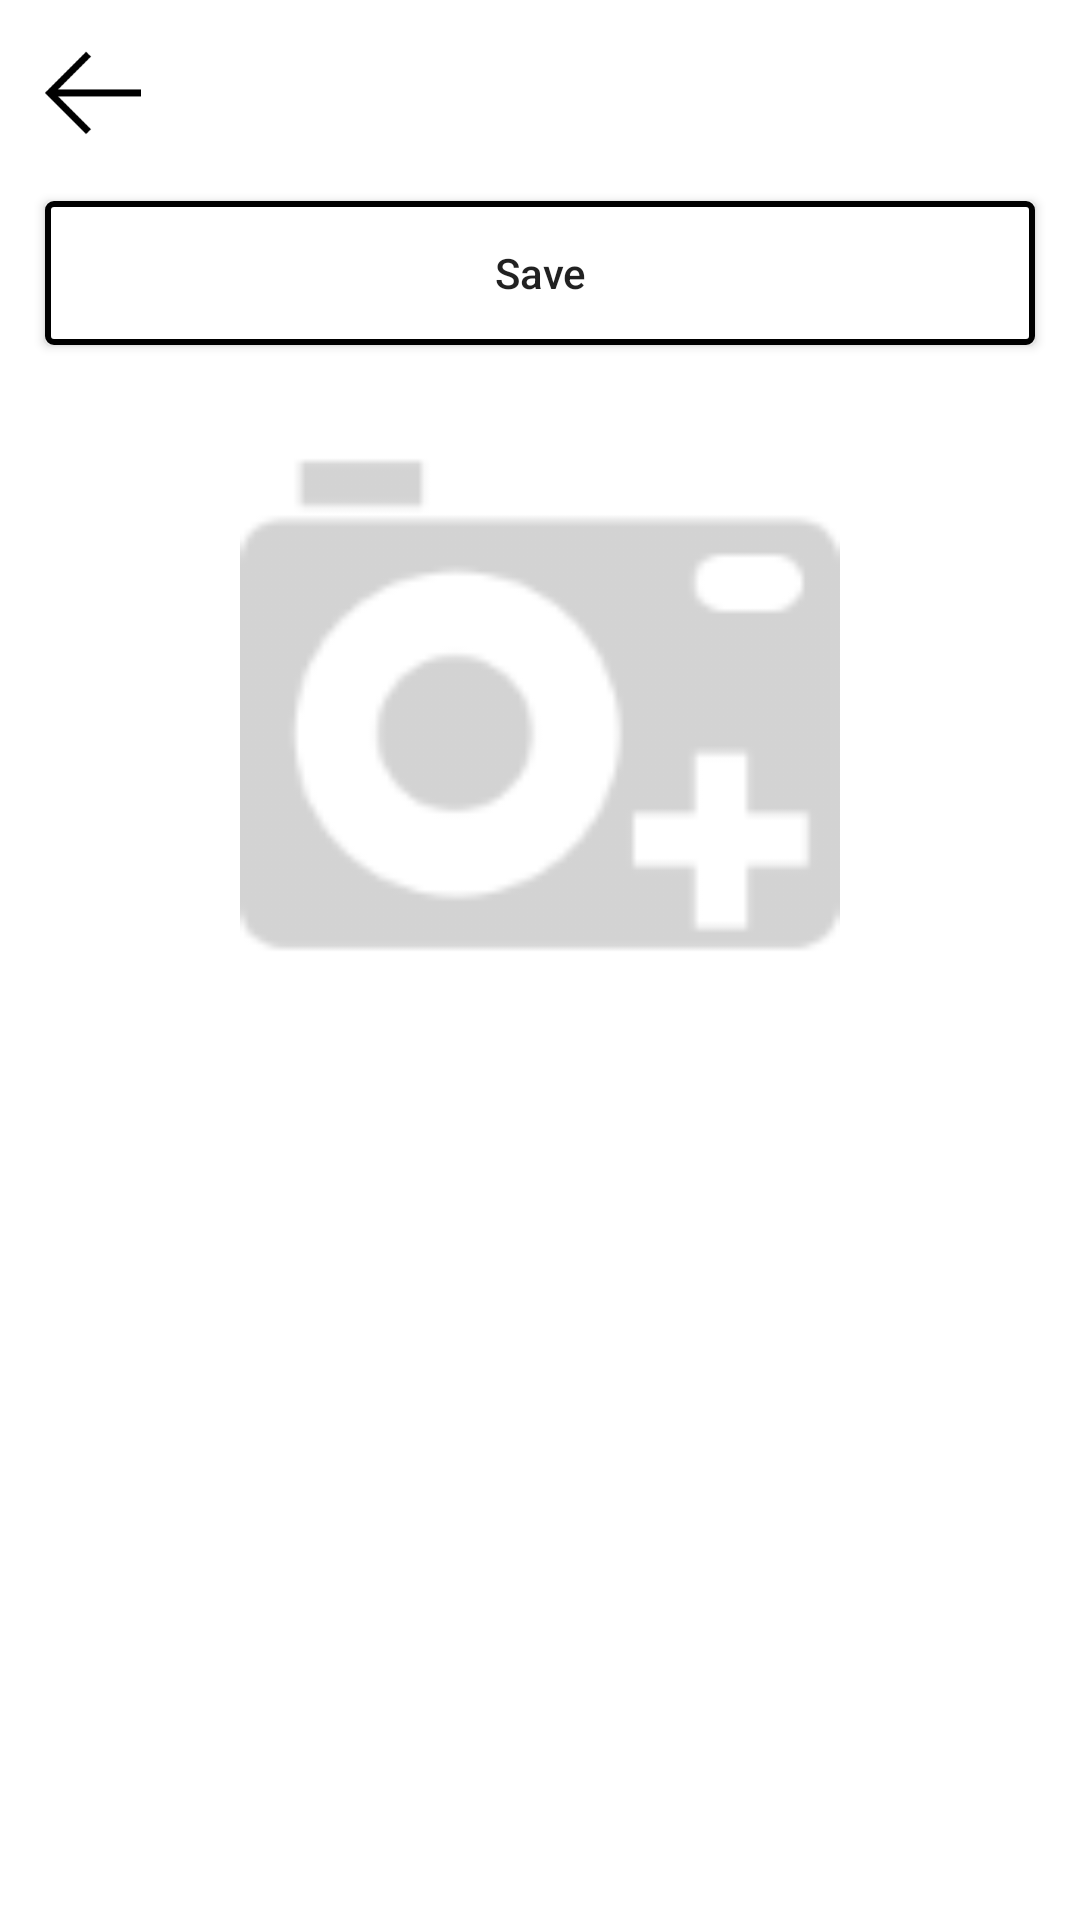

Locate icon controls on the screen. Image size 1080 × 1920, boxes as region(x1, y1, x2, y2).
left arrow: region(45, 52, 141, 134)
